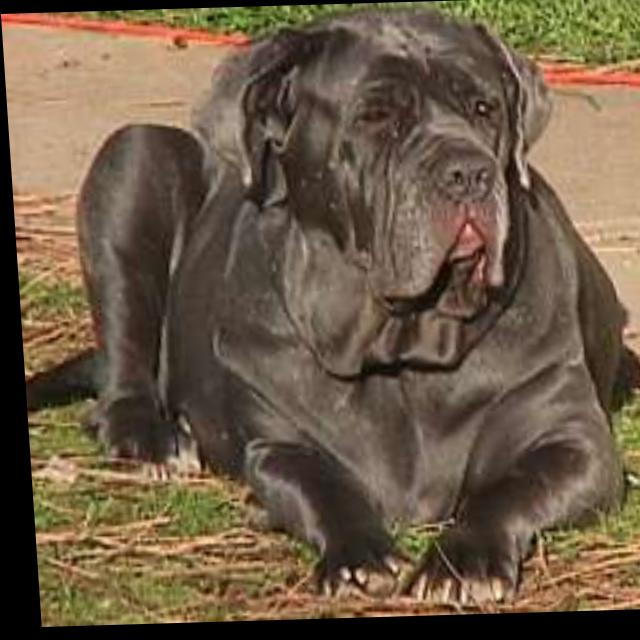mastino_napoletano: (2, 1, 640, 620)
